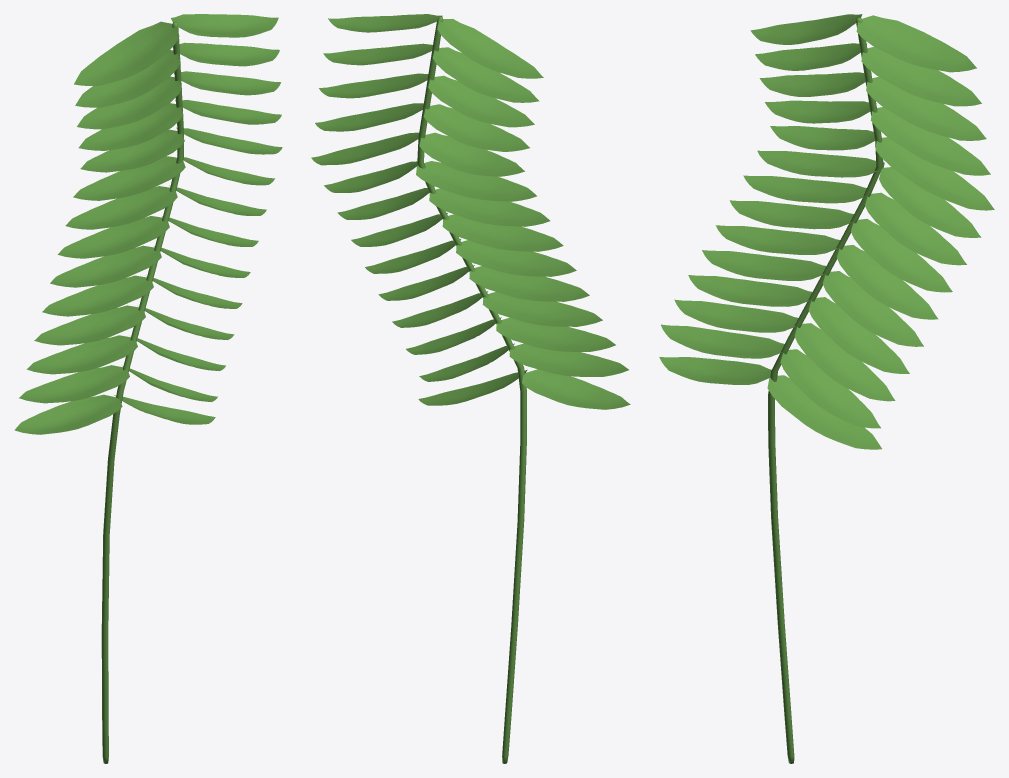
The model's file is sword_fern_variant2.fbx.
3 views of the same model, side by side, from view 1: azimuth 30°, elevation 25°; view 2: azimuth 150°, elevation 25°; view 3: azimuth 330°, elevation 25° (orthographic). The views are drawn at different scales.
Parts seen in each view (by area): view 1: Plane.003, Plane.004, Curve; view 2: Plane.003, Plane.004, Curve; view 3: Plane.004, Plane.003, Curve.
Part boxes in pixels (left/top/right/bottom): Plane.003: left=14, top=21, right=185, bottom=434; Plane.004: left=114, top=14, right=282, bottom=424; Curve: left=101, top=22, right=183, bottom=763; Plane.003: left=416, top=18, right=630, bottom=409; Plane.004: left=311, top=14, right=527, bottom=405; Curve: left=417, top=17, right=526, bottom=763; Plane.004: left=767, top=15, right=994, bottom=449; Plane.003: left=659, top=14, right=884, bottom=384; Curve: left=768, top=17, right=883, bottom=763.
Bounding box in the file's own units: 27.28 × 64.48 × 8.08.
